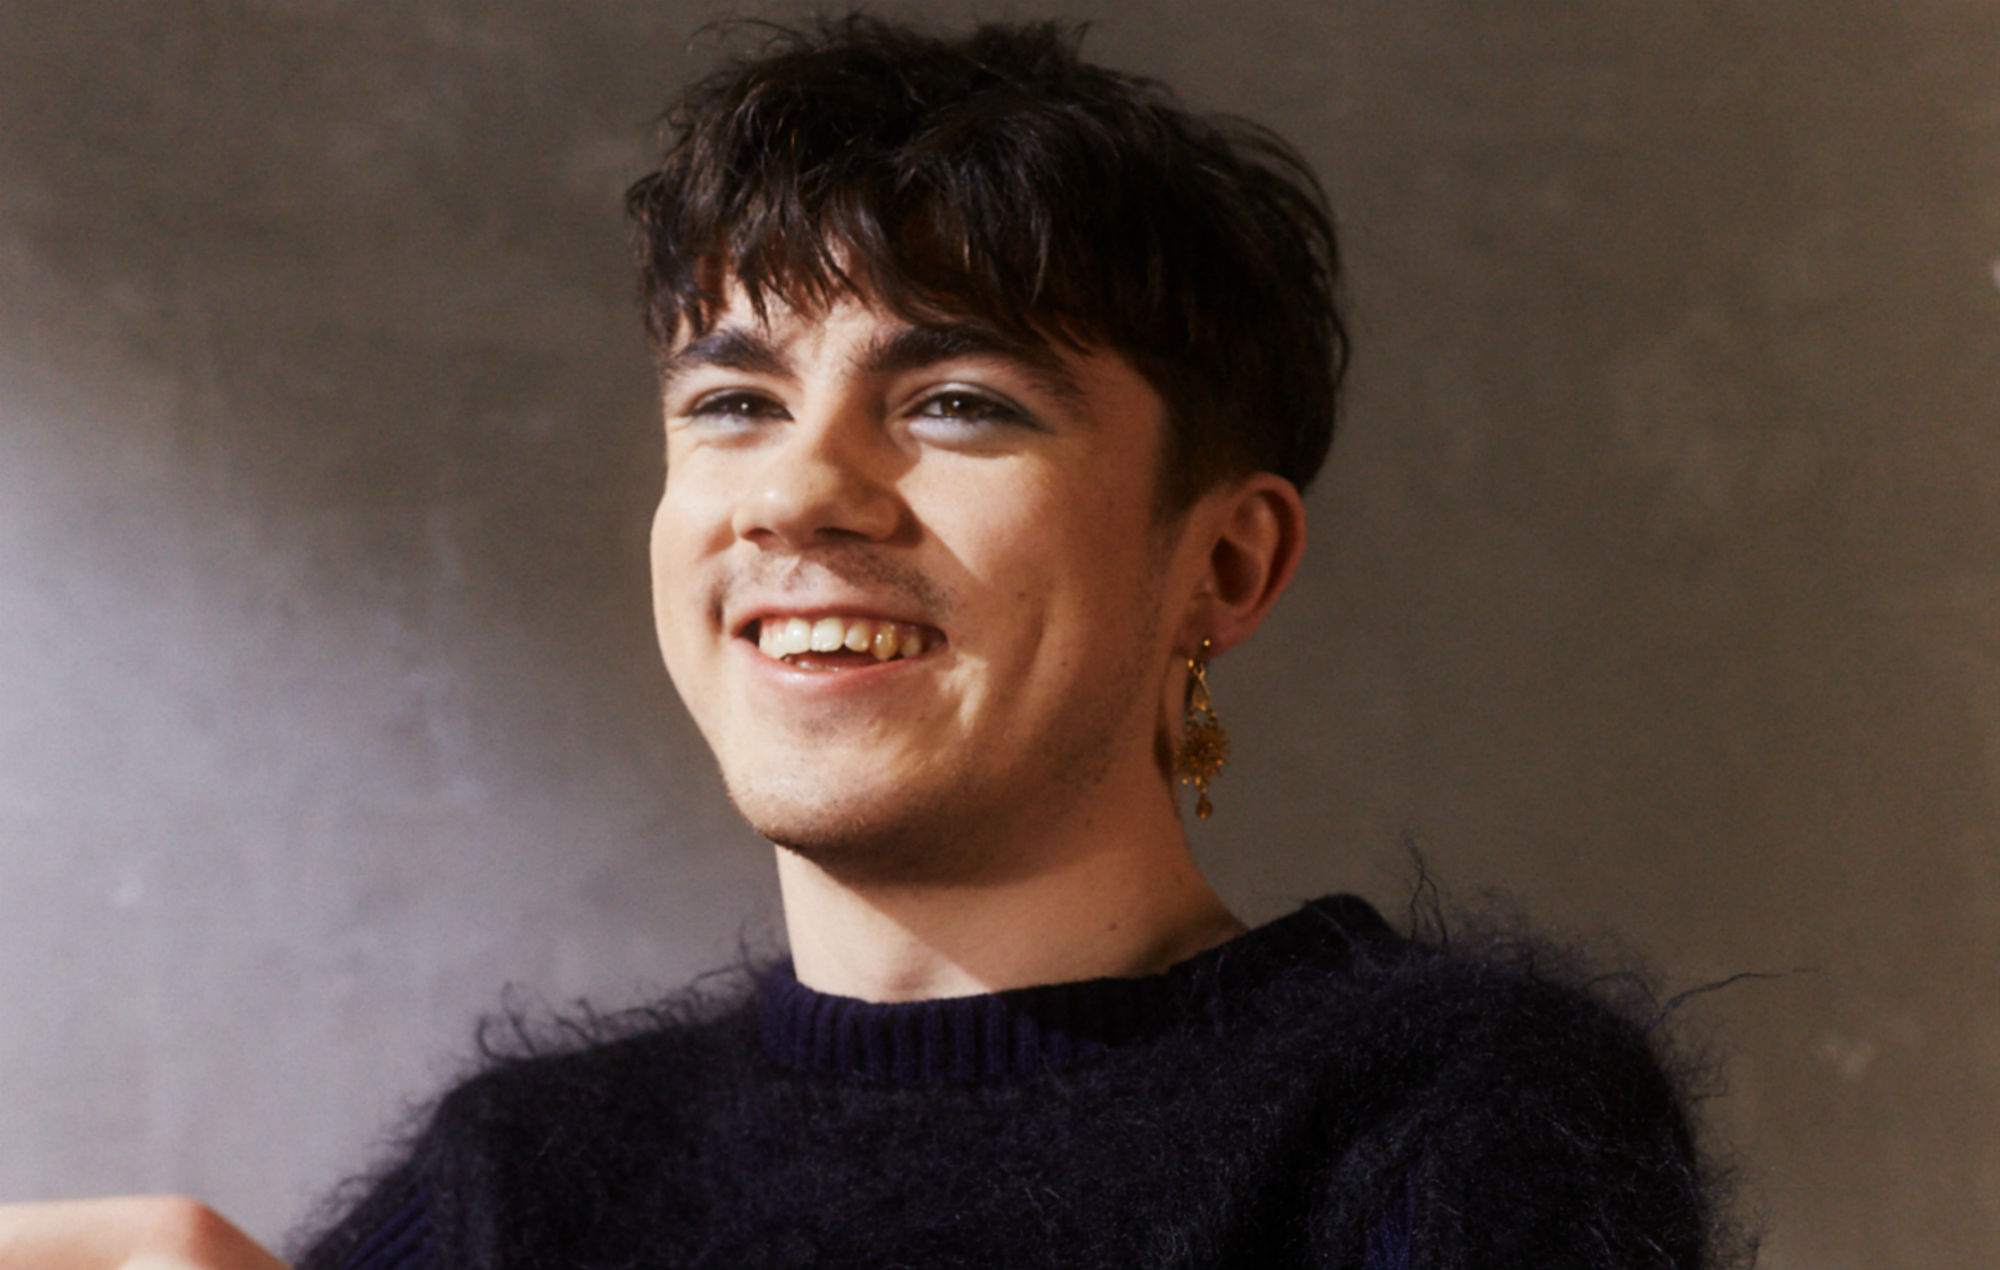no_mask: (613, 21, 1353, 897)
